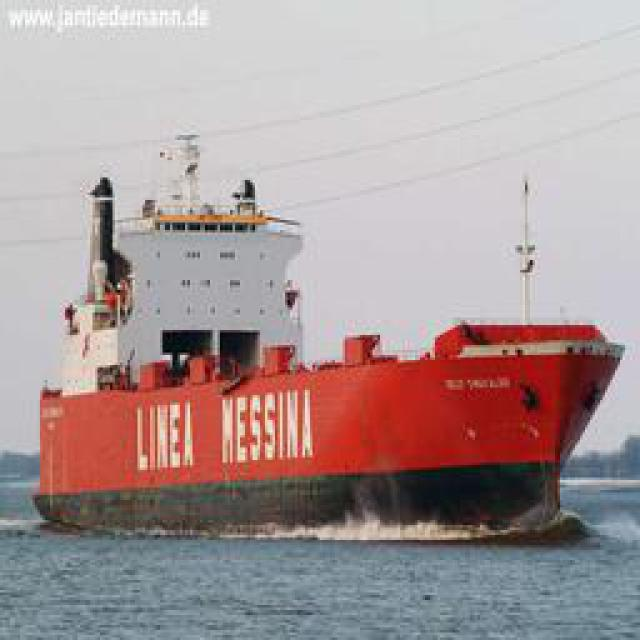Ship: (36, 175, 619, 540)
